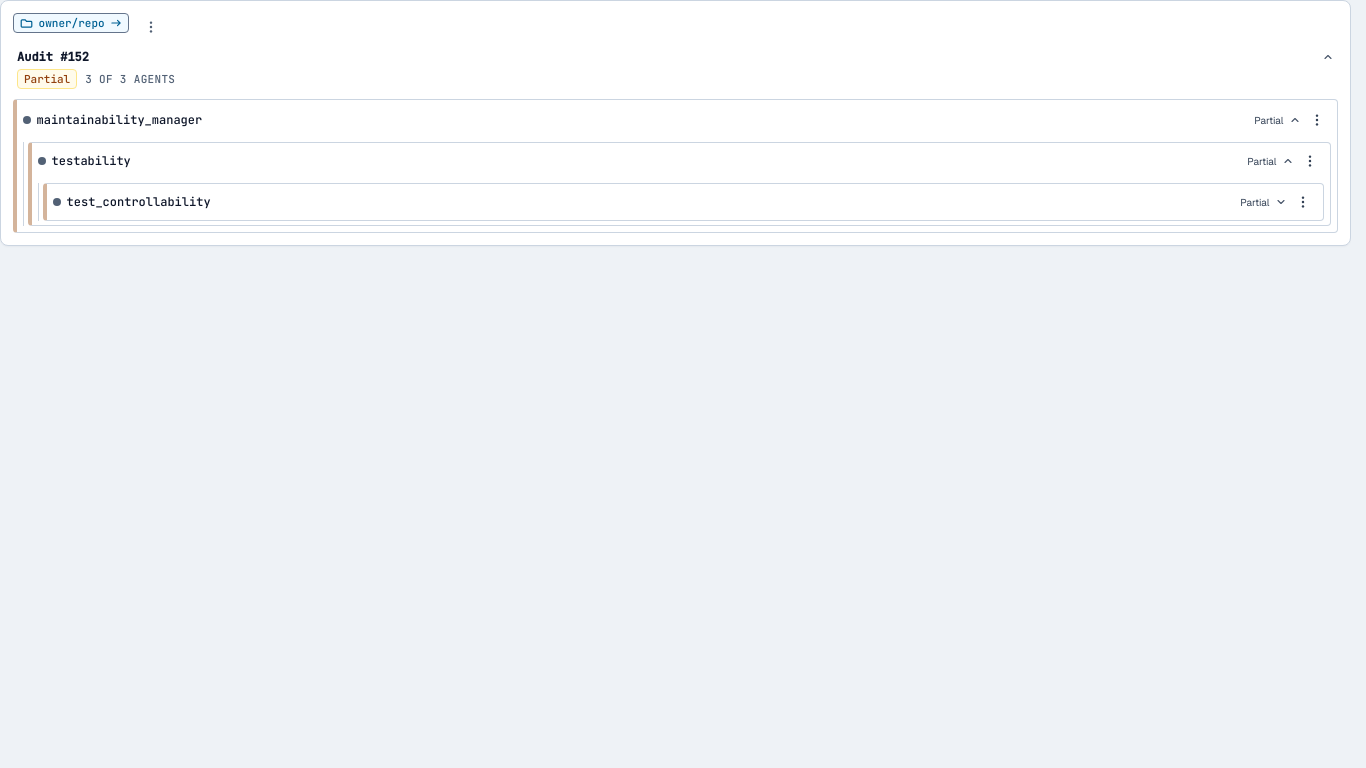
Test: opens a modal listing the recorded reasons per agent
The width and height of the screenshot is (1366, 768).
What coordinates should you click on to do the following:
click the button named "View reason"
I would click on:
 (151, 27)
Its box is x1=137 y1=13 x2=165 y2=41.
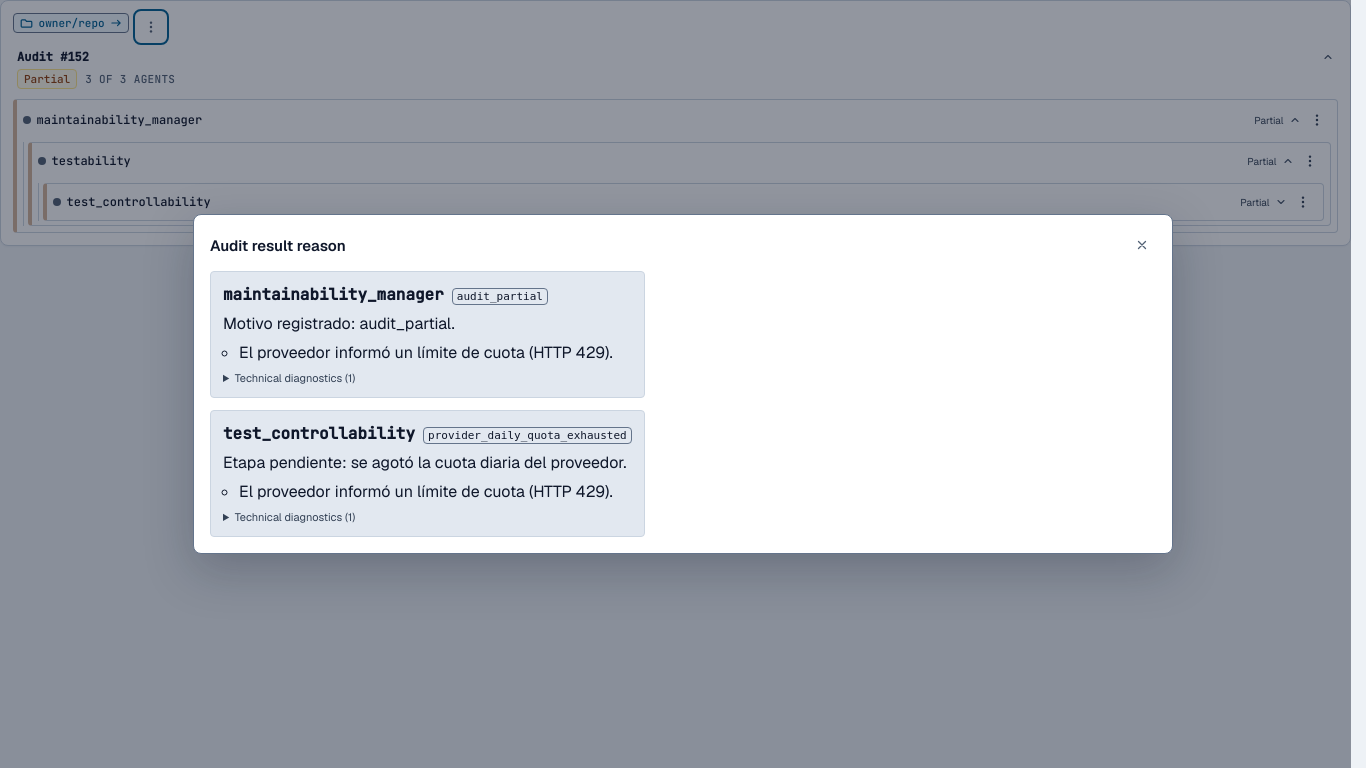
Expected: the text "maintainability_manager" is shown, x1=223 y1=284 x2=444 y2=305
Expected: the text "test_controllability" is shown, x1=223 y1=423 x2=415 y2=444
Expected: the text "provider_daily_quota_exhausted" is shown, x1=423 y1=427 x2=632 y2=444
